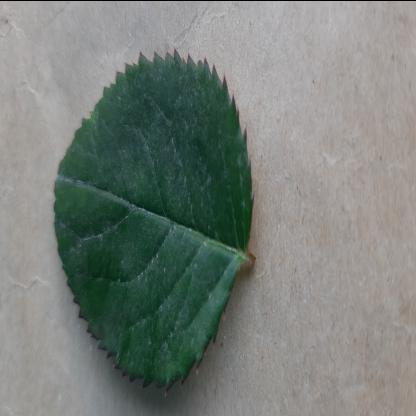normal: (54, 47, 255, 393)
